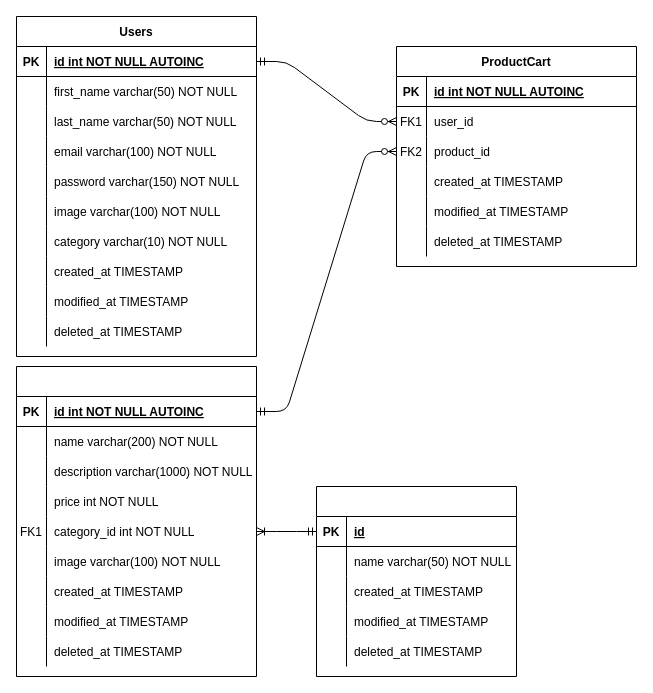
Image size: 653x693. Some labels were removed from this diagram. Each missing label, with the box of its shape:
ProductCategory: (316, 486, 516, 676)
Products: (16, 366, 256, 676)
